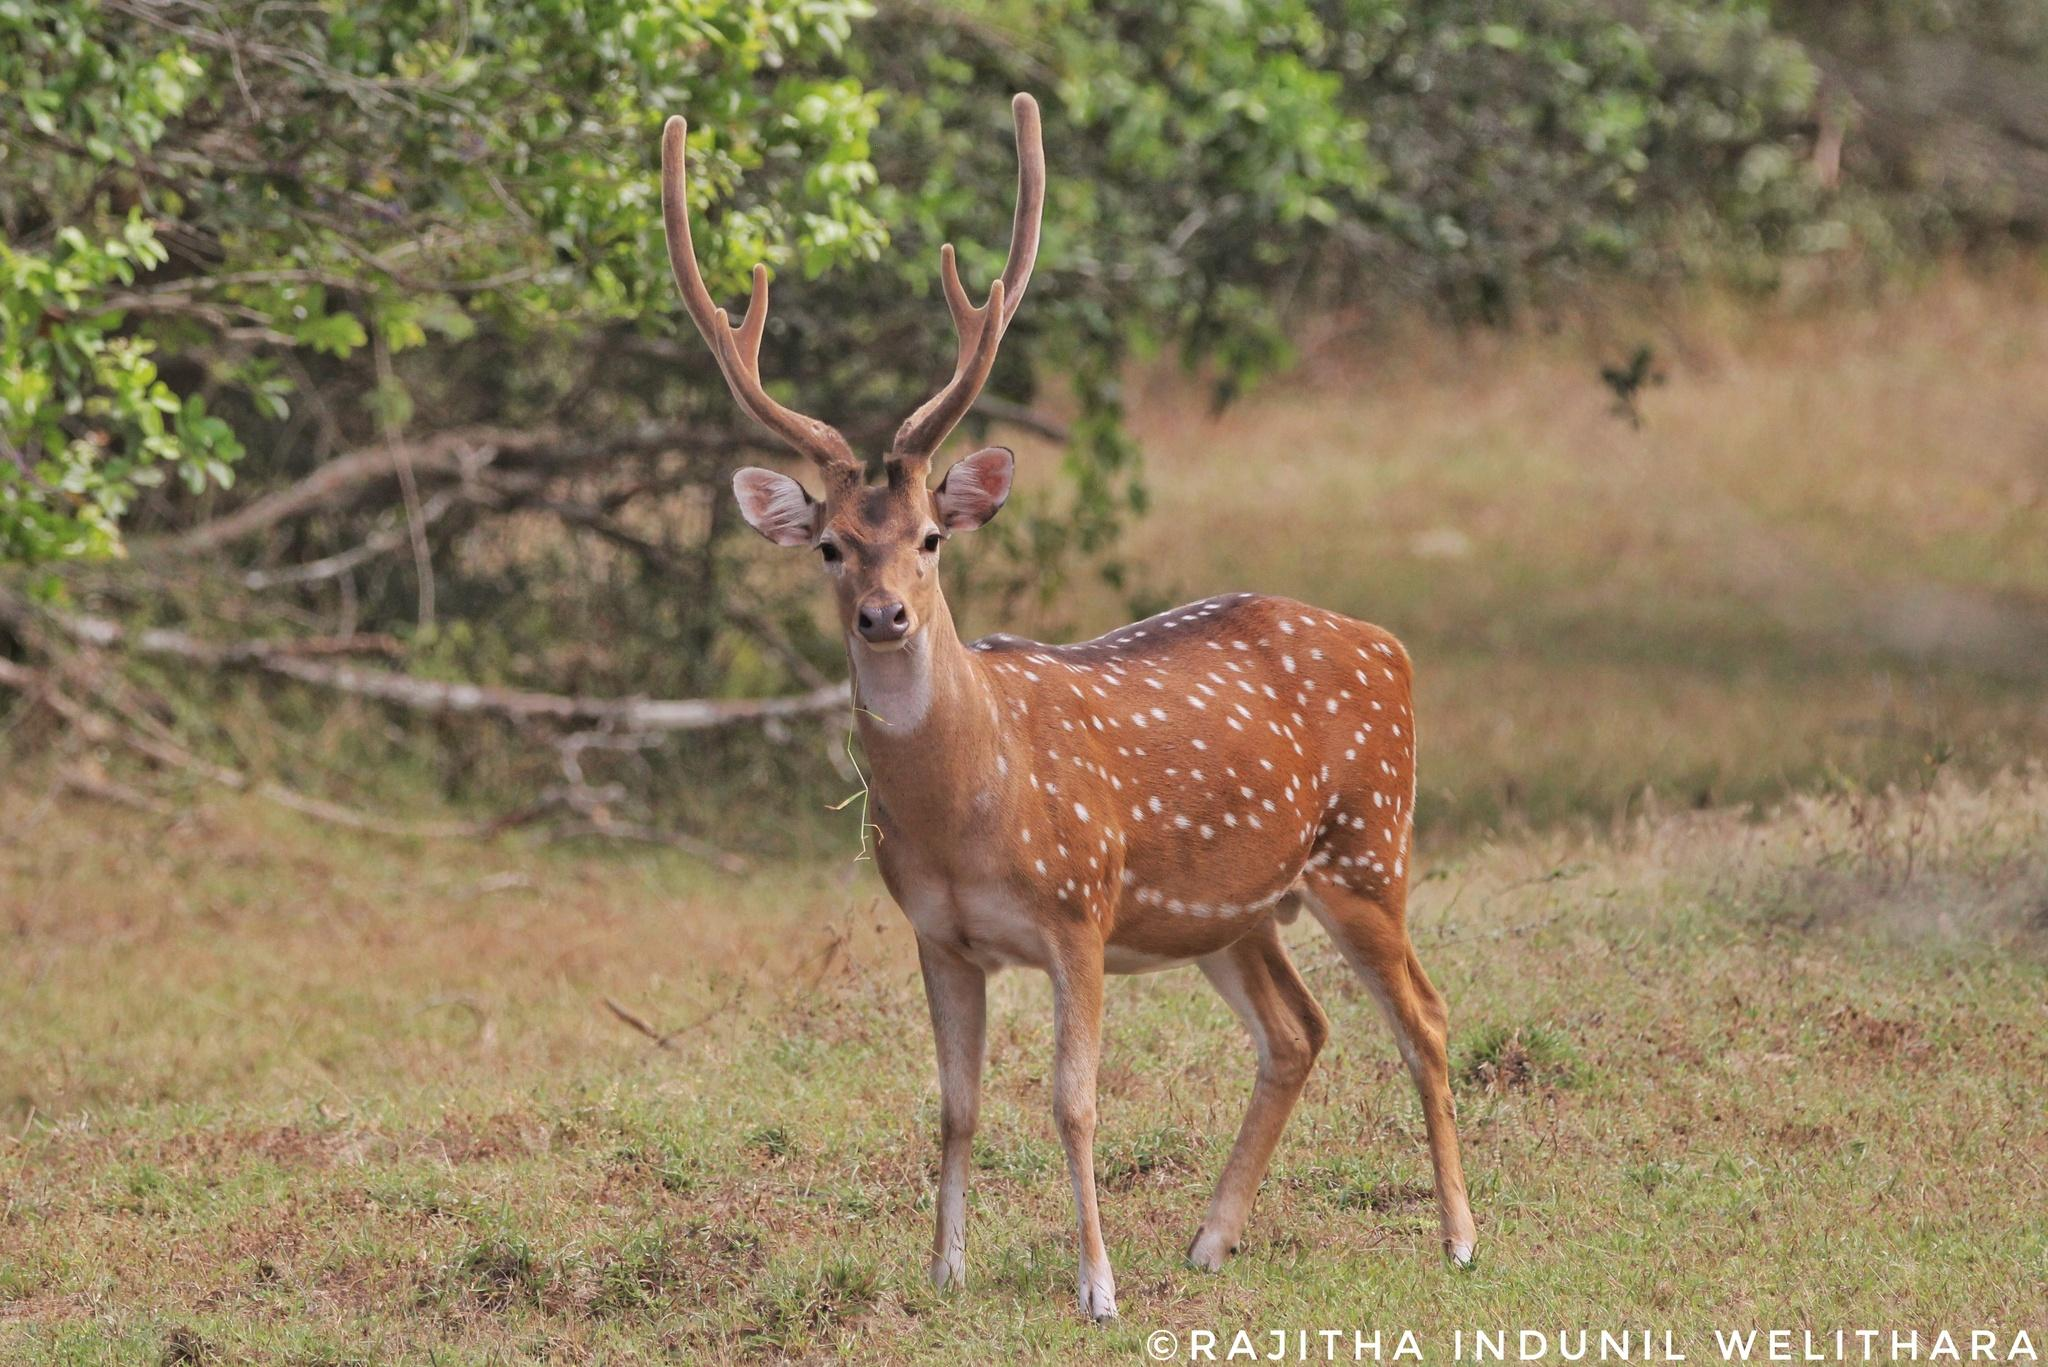Deer: (662, 95, 1475, 1321)
